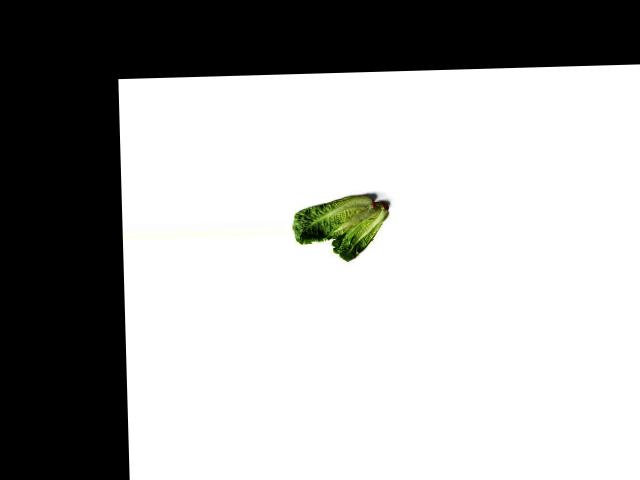lettuce: (330, 199, 394, 262)
